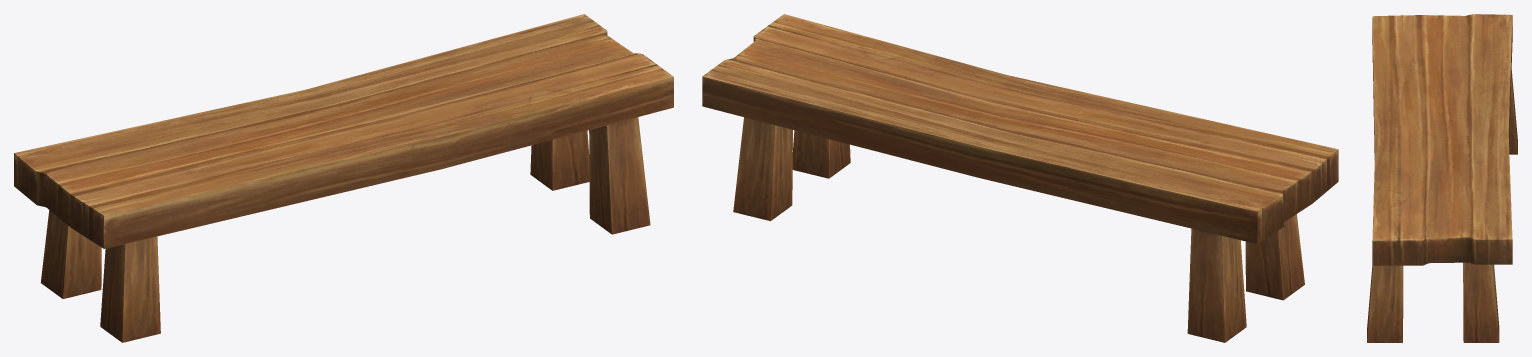
The model's file is Bench_Wooden_01.FBX.
3 renders of one model, left to right at view 1: azimuth 30°, elevation 25°; view 2: azimuth 150°, elevation 25°; view 3: azimuth 270°, elevation 25°, orthographic. The views are drawn at different scales.
Visible parts, largest first — view 1: Bench_Wooden_01; view 2: Bench_Wooden_01; view 3: Bench_Wooden_01.
Boxes of the visible parts, box(x1,y1,x2,y2) form: Bench_Wooden_01: box(14, 14, 673, 342); Bench_Wooden_01: box(702, 14, 1338, 342); Bench_Wooden_01: box(1367, 14, 1517, 342).
Size of the model in its own units: 275 by 77.3 by 63.76.
